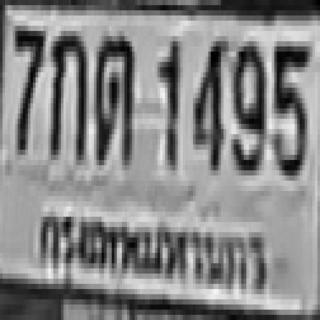A01: (48, 26, 84, 155)
A21: (91, 31, 132, 160)
N01: (155, 36, 178, 165)
N04: (190, 36, 221, 165)
N05: (272, 36, 307, 170)
N07: (13, 21, 43, 150)
N09: (228, 36, 264, 170)
P04: (35, 197, 276, 308)
